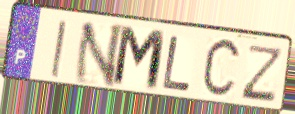C: (200, 35, 244, 102)
I: (49, 18, 68, 80)
L: (160, 34, 193, 94)
M: (110, 23, 169, 94)
N: (72, 21, 127, 89)
Z: (238, 43, 286, 104)
